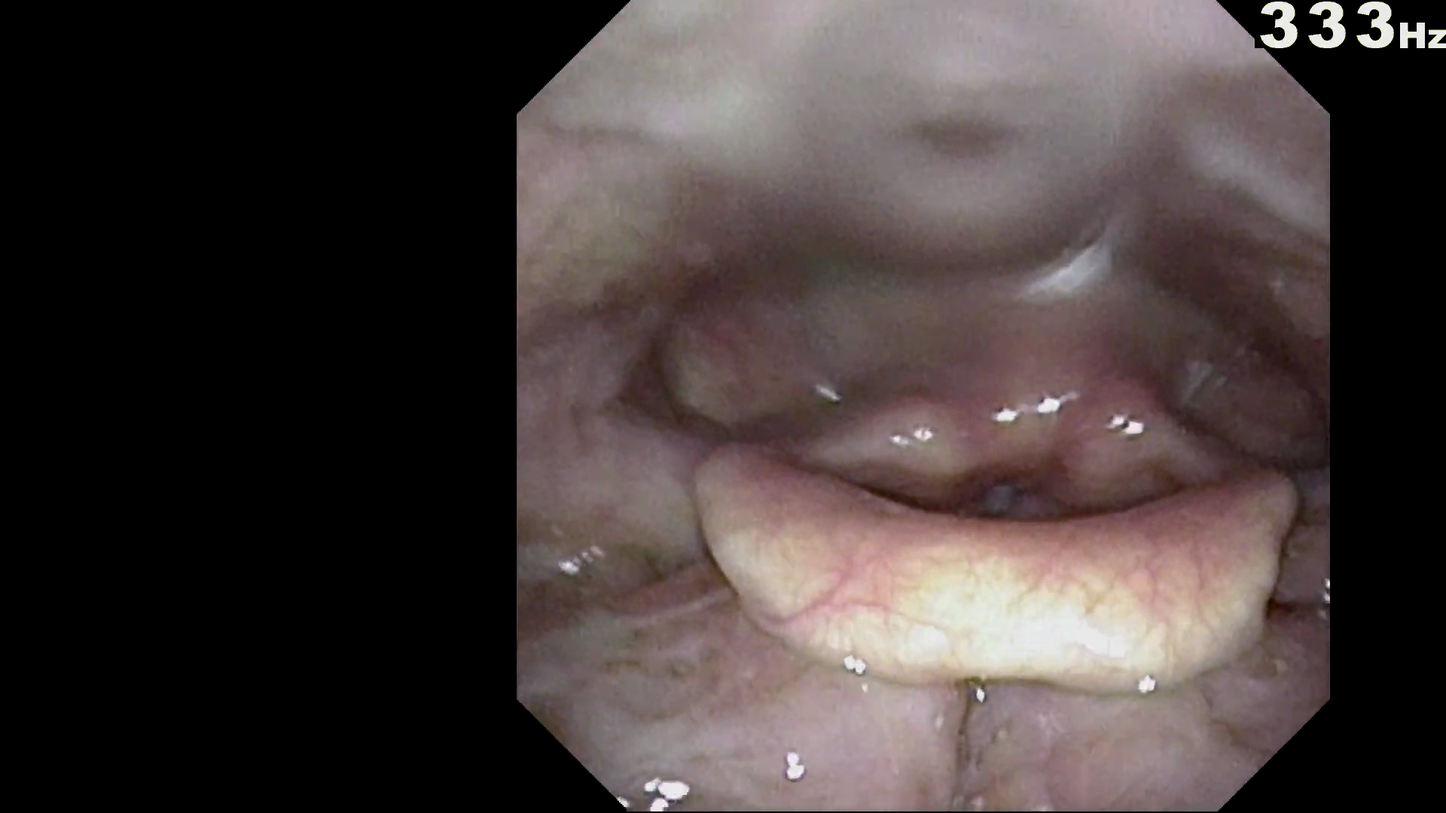epiglottis: (681, 453, 1290, 678)
trachea: (970, 487, 1033, 548)
